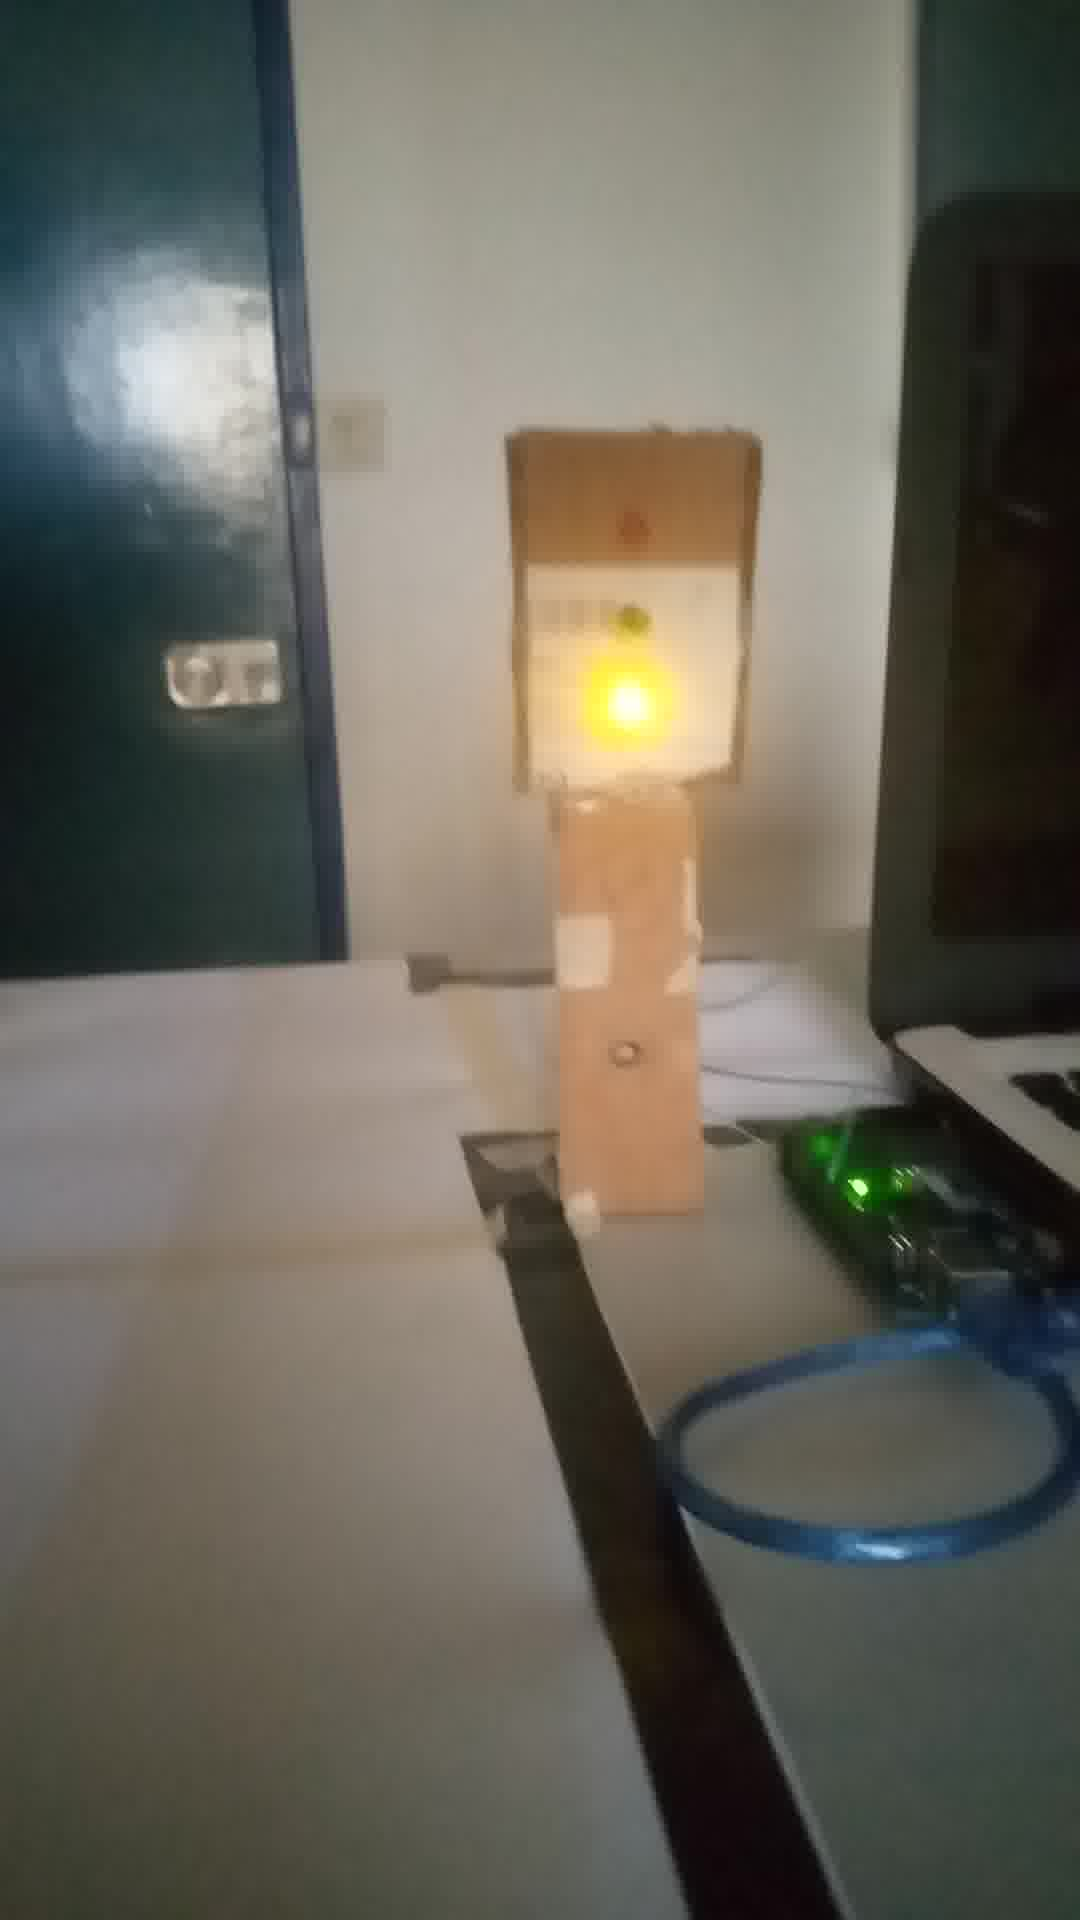green: (513, 423, 750, 794)
